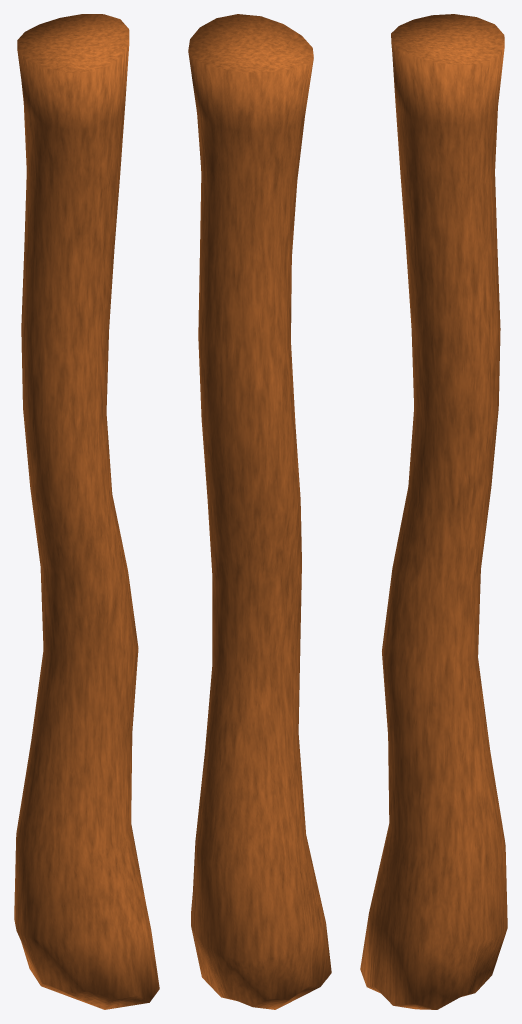
The model's file is MakeshiftHammerHandle.fbx.
The picture shows the model from 3 angles, left to right: view 1: azimuth 90°, elevation 25°; view 2: azimuth 150°, elevation 25°; view 3: azimuth 270°, elevation 25°; orthographic projection.
Parts seen in each view (by area): view 1: HammerHandle; view 2: HammerHandle; view 3: HammerHandle.
Part boxes in pixels (x1=…): HammerHandle: x1=14, y1=14, x2=159, y2=1009; HammerHandle: x1=188, y1=14, x2=331, y2=1009; HammerHandle: x1=360, y1=14, x2=507, y2=1009.
Size of the model in its own units: 18.49 by 151 by 20.51.
Materials: 1 (1 with a texture image).
